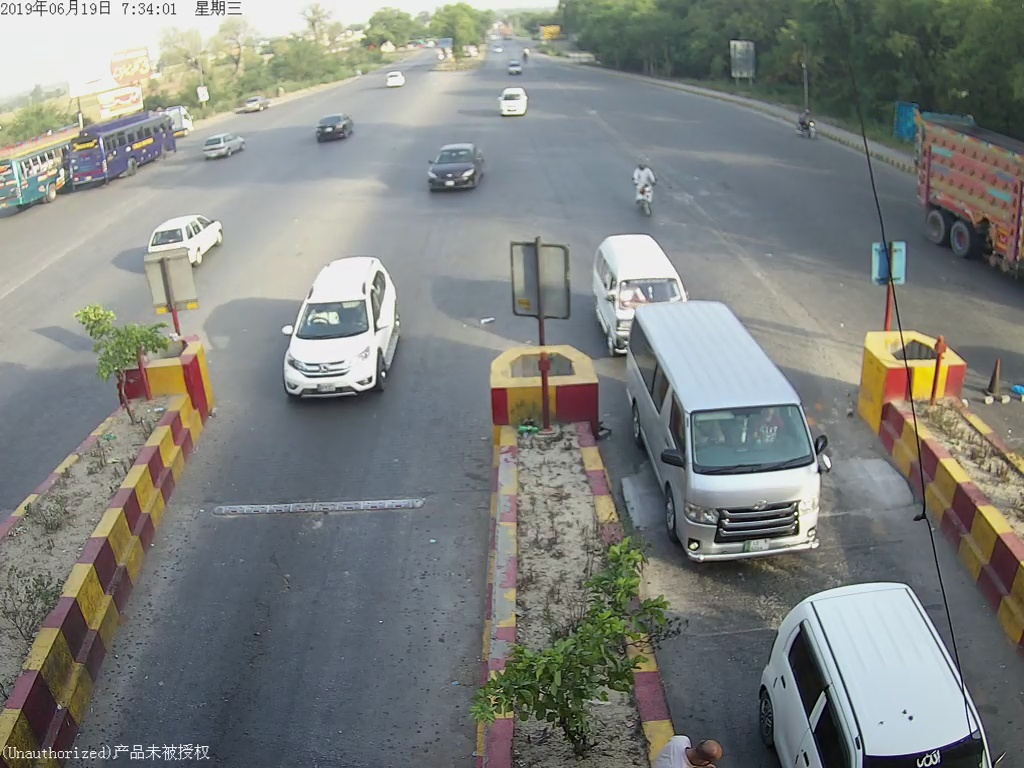Cat-1: (273, 266, 409, 407), (419, 134, 483, 196)
Cat-2: (631, 312, 836, 571)
